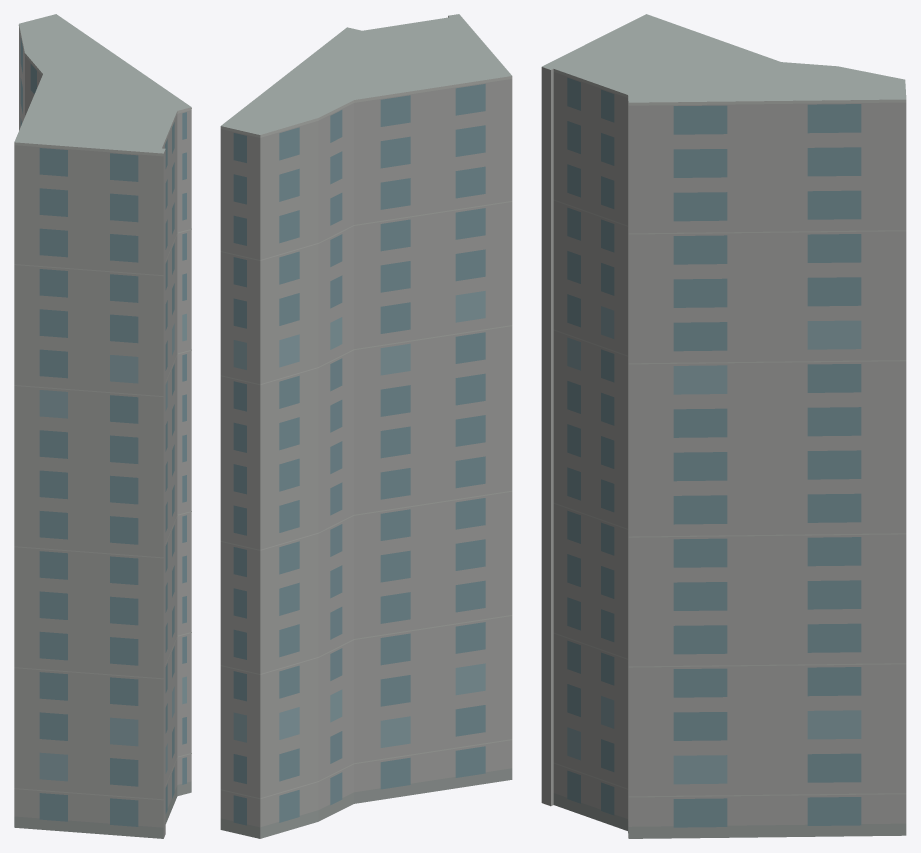
File: survey-upis-32978606.glb
The picture shows the model from 3 angles, left to right: view 1: azimuth 30°, elevation 25°; view 2: azimuth 150°, elevation 25°; view 3: azimuth 270°, elevation 25°; orthographic projection. The views are drawn at different scales.
Parts seen in each view (by area): view 1: survey-upis-32978606.tmp; view 2: survey-upis-32978606.tmp; view 3: survey-upis-32978606.tmp.
Part boxes in pixels (<box>): survey-upis-32978606.tmp: <box>14,14,191,838</box>; survey-upis-32978606.tmp: <box>220,14,512,838</box>; survey-upis-32978606.tmp: <box>541,14,906,838</box>.
Bounding box in the file's own units: 15.43 × 59.6 × 26.8.
